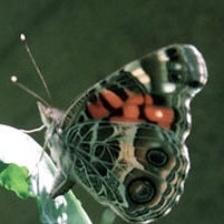butterfly: (38, 44, 209, 222)
